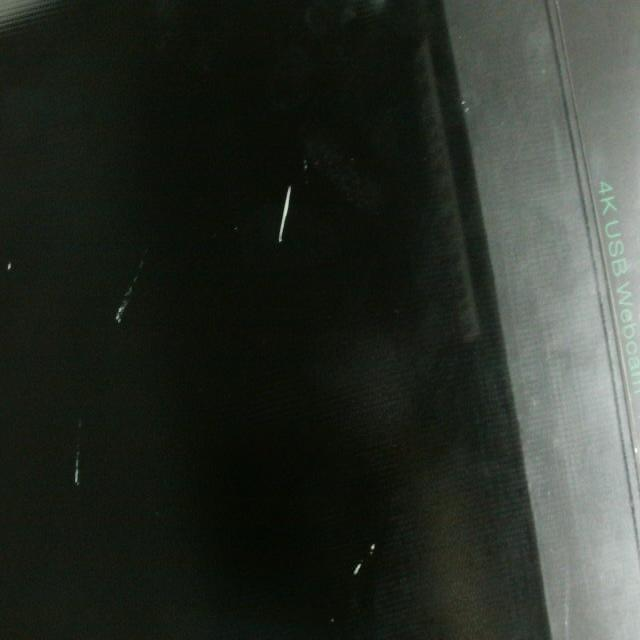scratch: (112, 244, 152, 328), (270, 178, 300, 247), (68, 404, 90, 494), (347, 533, 382, 582)
very small scratch: (4, 253, 18, 275)
